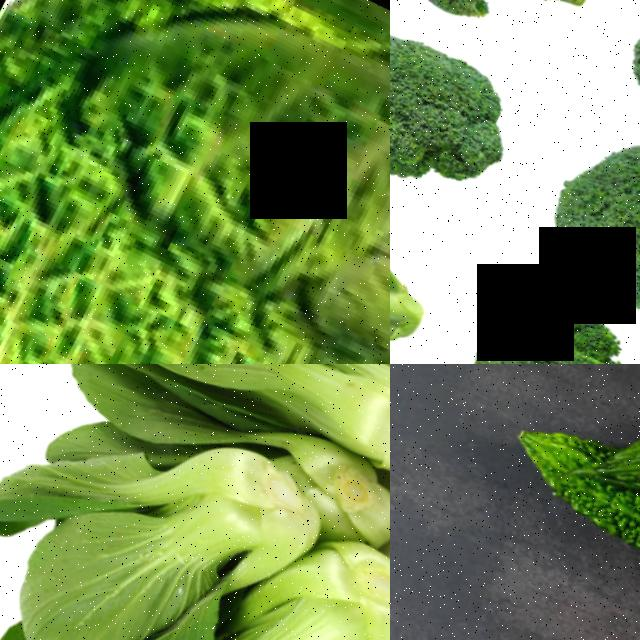bok choy: (0, 369, 276, 640), (130, 364, 390, 508), (143, 516, 390, 640)
broccoli: (390, 0, 560, 250), (503, 98, 640, 364), (410, 252, 640, 364), (390, 125, 492, 364), (390, 0, 640, 84)
cabbage: (0, 0, 390, 364)
